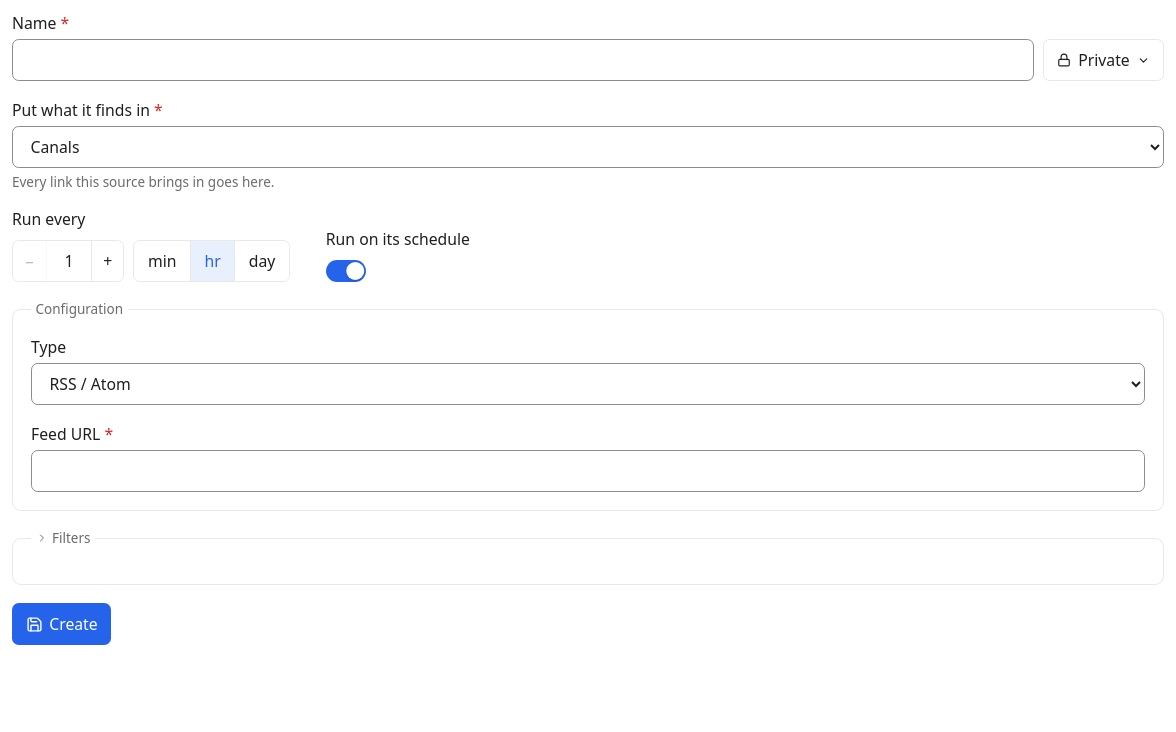
Test case: SourceForm — creating › quotes what the server objected to, and announces it
Type "Broken" into the field labelled "Name". click: (523,60)
box: [12, 39, 1034, 81]
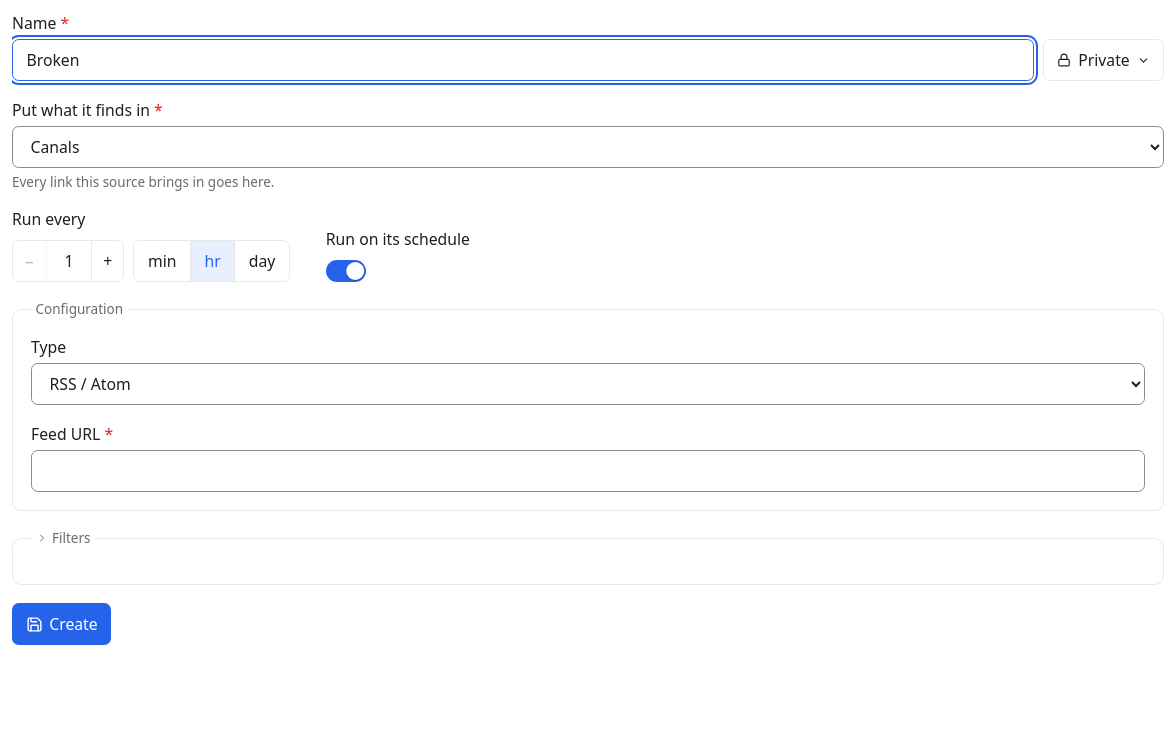
Type "https://example.com/feed.xml" into the field labelled "Feed URL *". click: (588,472)
box: [31, 450, 1145, 492]
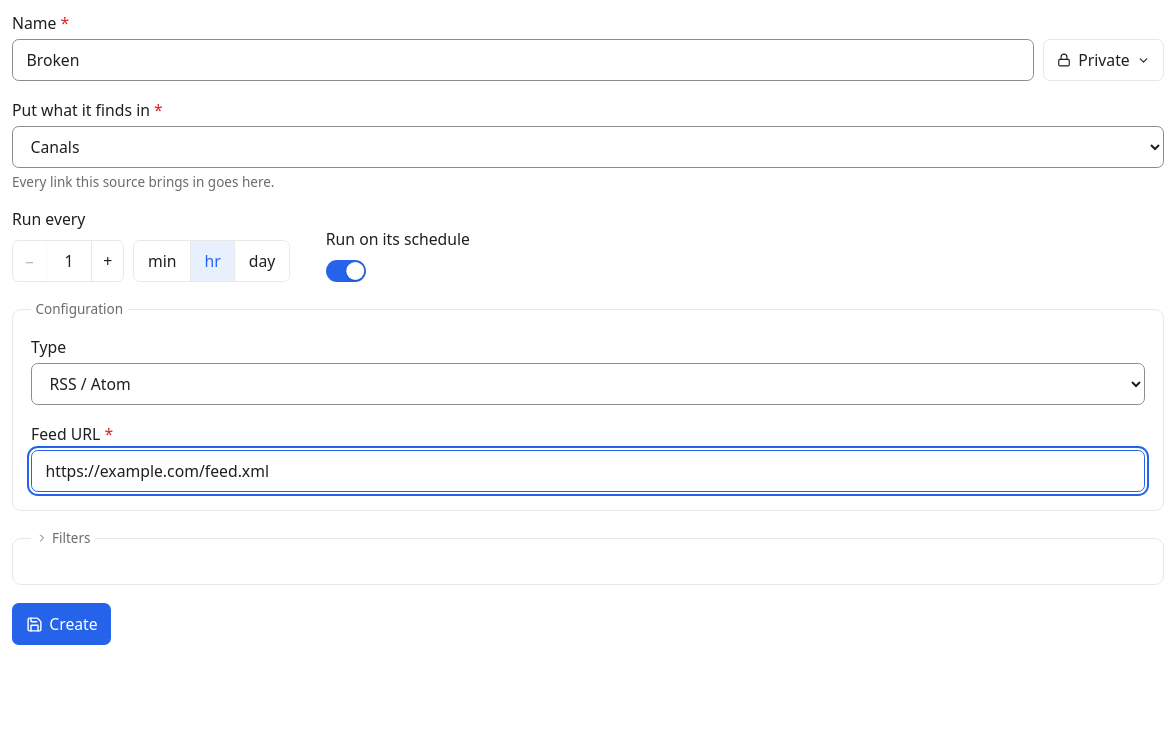
Click the button "Create". click: (62,624)
box: [12, 603, 111, 645]
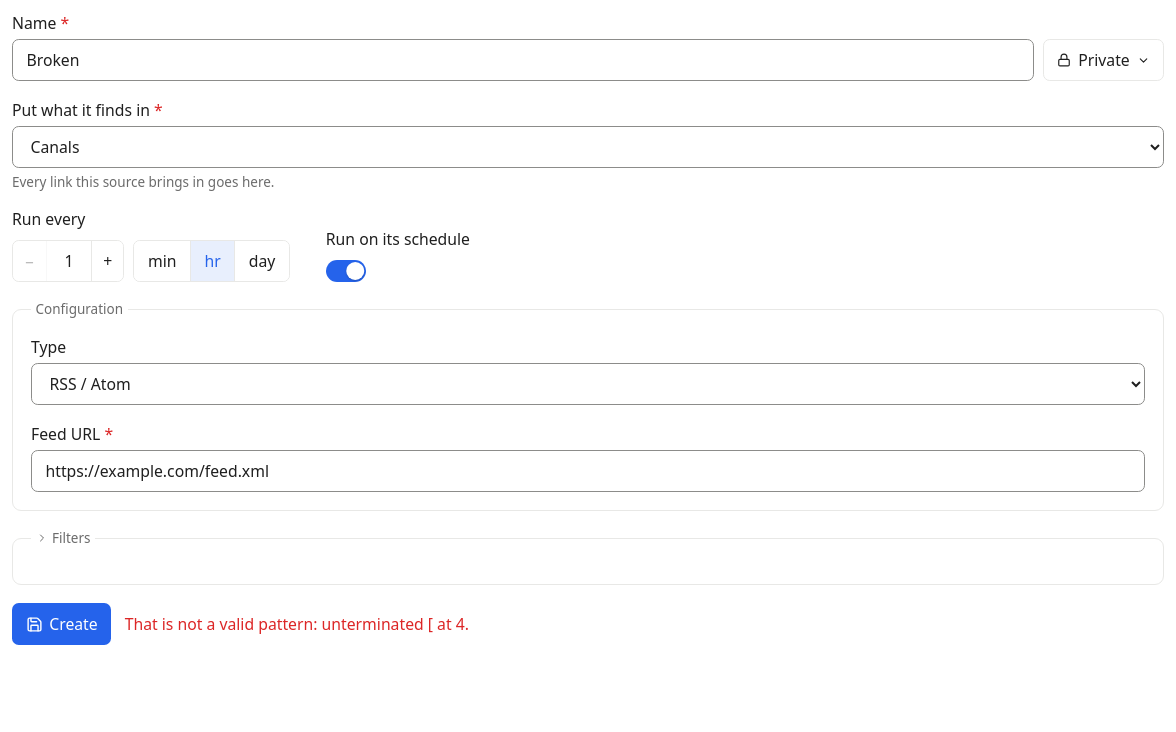
Expected: the message reads "That is not a valid pattern: unterminated [ at 4.", [125, 613, 469, 635]
